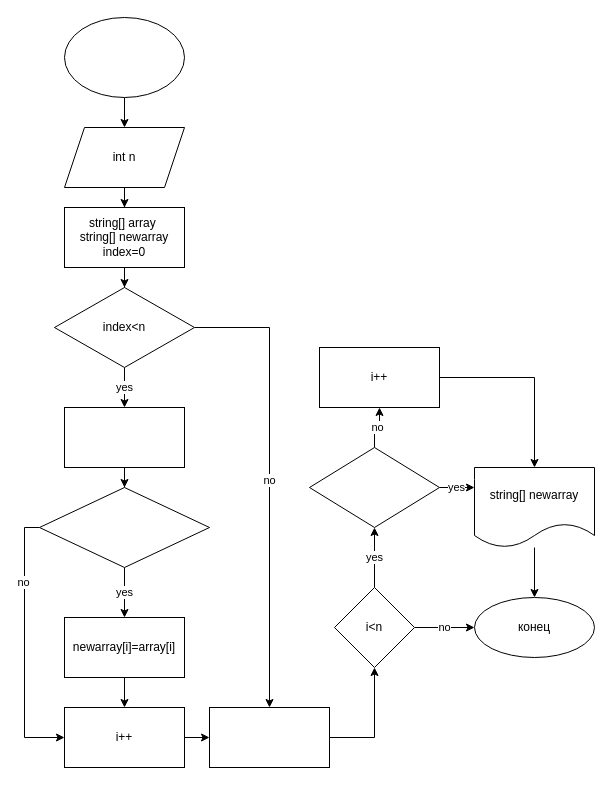
Some shapes in this 612 by 785 pixel diagram are drawn without their labels. The centre of each missing label's shape, as x and y in pixels:
"array[i]" belongs at pixel 124 437.
"array[i].Length<4" belongs at pixel 124 527.
"i =0" belongs at pixel 269 737.
"newarray[i] != null" belongs at pixel 374 487.
"Начало" belongs at pixel 124 57.
